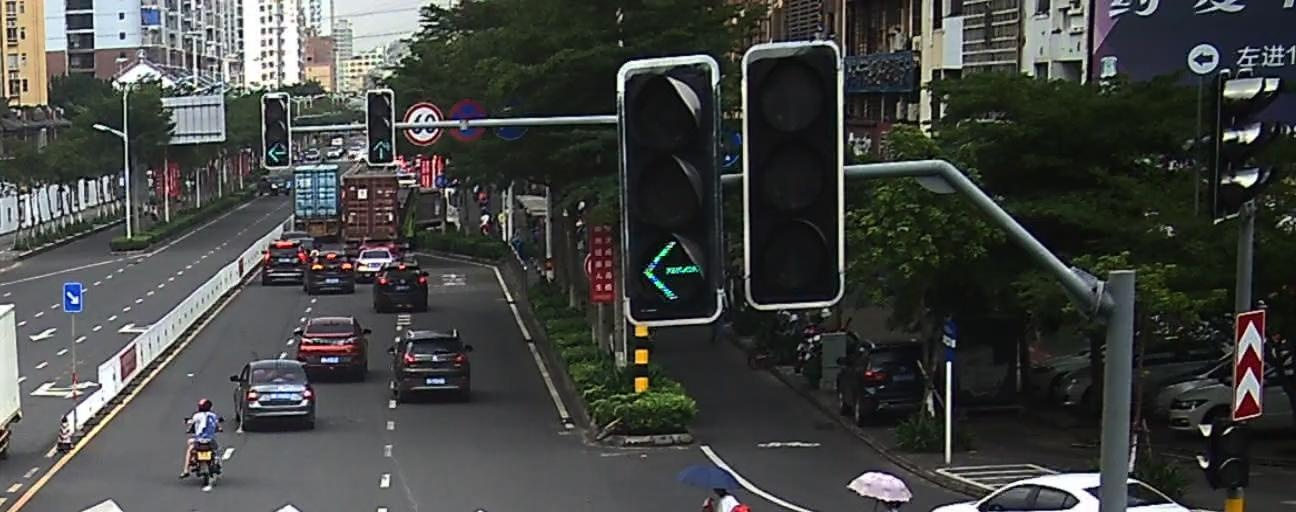greenleft: (632, 234, 706, 308), (266, 144, 289, 166)
greenstraight: (368, 139, 391, 165)
